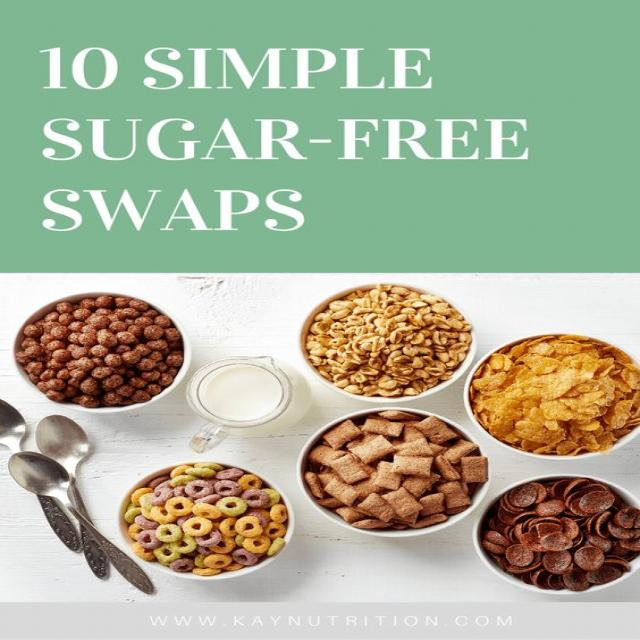milk: (193, 362, 290, 424)
